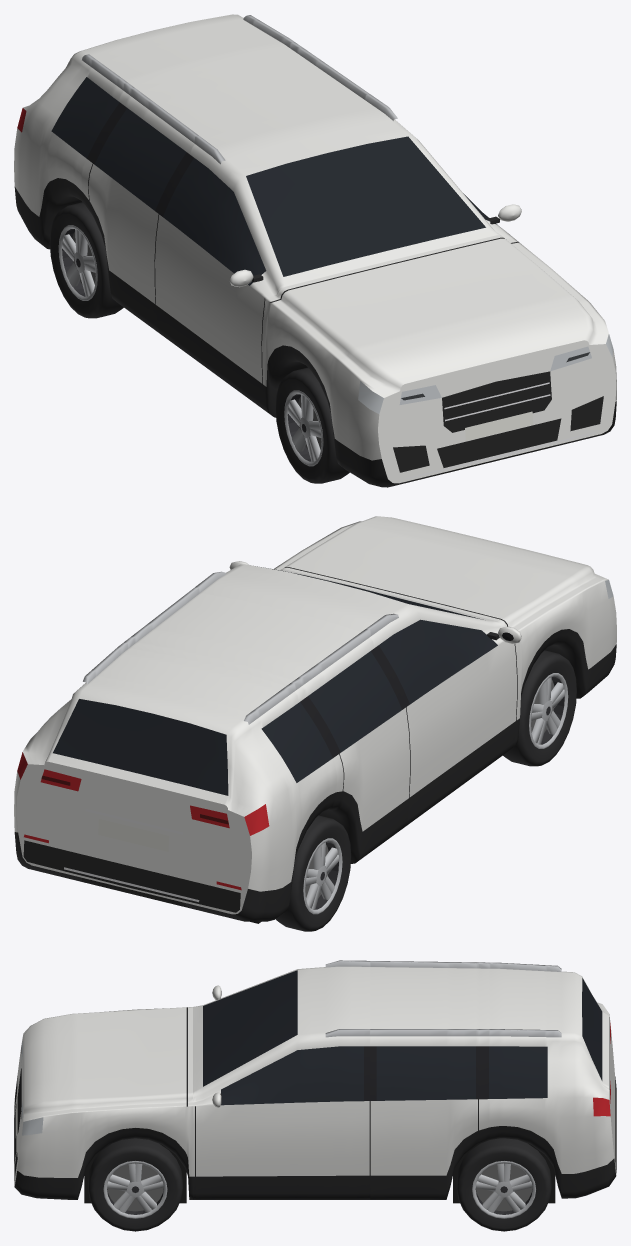
The model's file is traffic-suv.glb.
3 views of the same model, one above another, from view 1: azimuth 30°, elevation 25°; view 2: azimuth 150°, elevation 25°; view 3: azimuth 270°, elevation 25° (orthographic). The views are drawn at different scales.
Visible parts, largest first — view 1: body_paint, body_details, wheel_fr, wheel_rr; view 2: body_paint, body_details, wheel_rr, wheel_fr; view 3: body_paint, body_details, wheel_rl, wheel_fl.
Part boxes in pixels (x1=…): body_paint: x1=14, y1=14, x2=616, y2=483; body_details: x1=14, y1=15, x2=616, y2=487; wheel_fr: x1=275, y1=367, x2=349, y2=483; wheel_rr: x1=49, y1=202, x2=123, y2=318; body_paint: x1=14, y1=516, x2=616, y2=914; body_details: x1=14, y1=566, x2=616, y2=923; wheel_rr: x1=276, y1=815, x2=351, y2=931; wheel_fr: x1=503, y1=650, x2=576, y2=766; body_paint: x1=14, y1=966, x2=616, y2=1186; body_details: x1=14, y1=960, x2=616, y2=1203; wheel_rl: x1=456, y1=1138, x2=551, y2=1231; wheel_fl: x1=88, y1=1138, x2=182, y2=1231.
Size of the model in its own units: 2.16 by 1.63 by 4.73.
Materials: 2 (1 with a texture image).
